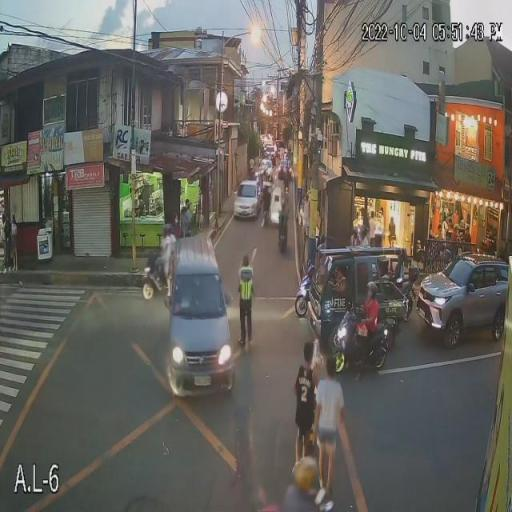helmet: (293, 457, 318, 493), (366, 283, 378, 300), (317, 244, 327, 251), (162, 225, 168, 236), (167, 225, 173, 236), (280, 200, 286, 208)
motorcycle: (333, 309, 395, 371), (144, 253, 170, 301), (295, 264, 310, 316), (277, 214, 289, 252)
rider: (355, 300, 377, 368), (286, 486, 323, 512), (160, 238, 172, 294), (278, 210, 288, 236), (171, 237, 175, 259)
